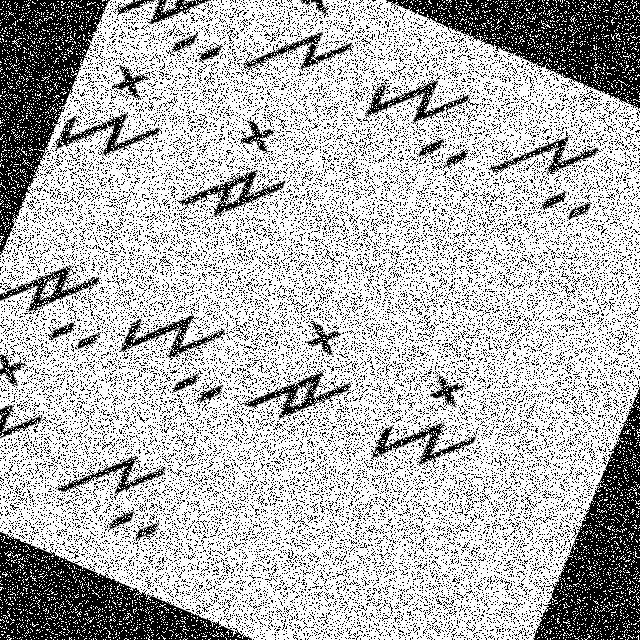lah: (30, 412, 188, 564), (468, 99, 620, 240)
lo: (231, 0, 374, 117), (0, 333, 70, 484)
rah: (0, 232, 132, 375), (97, 0, 252, 80)
ro: (170, 96, 315, 250), (236, 297, 376, 452)
yah: (340, 34, 502, 192), (106, 280, 252, 414)
yo: (362, 351, 505, 508), (46, 44, 182, 190)
